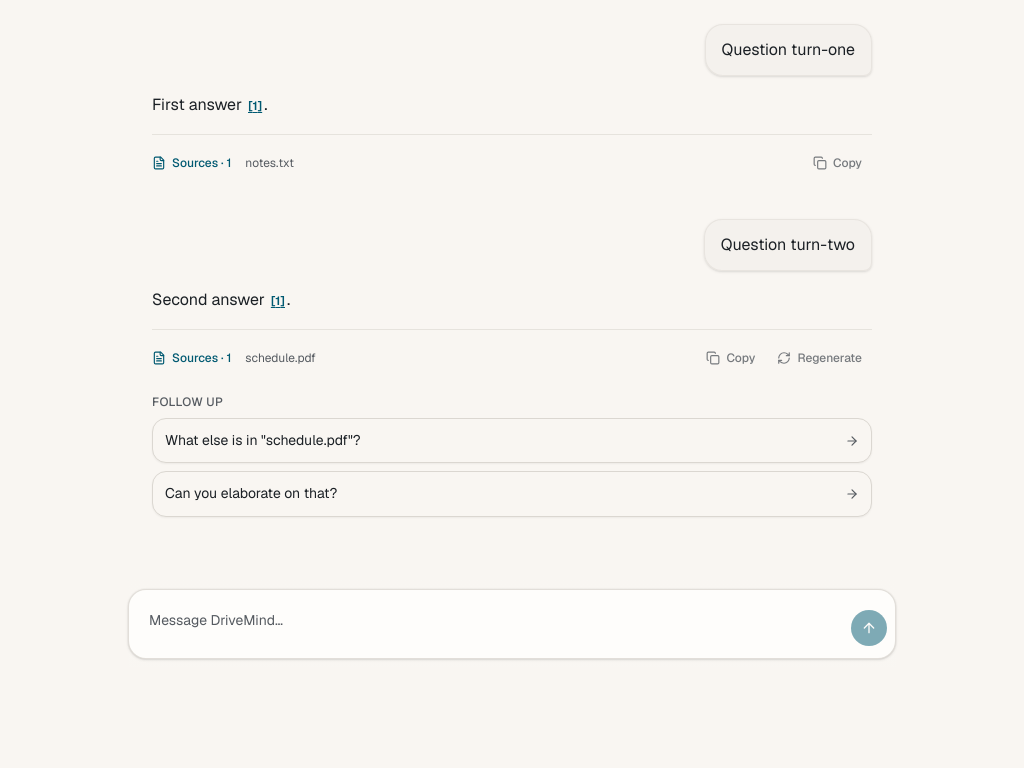
answer-wide evidence › closes without changing chat and does not carry one answer's evidence into another
Click the button "Sources · 1" below "First answer".
click(192, 163)  # box x1=152 y1=155 x2=231 y2=171
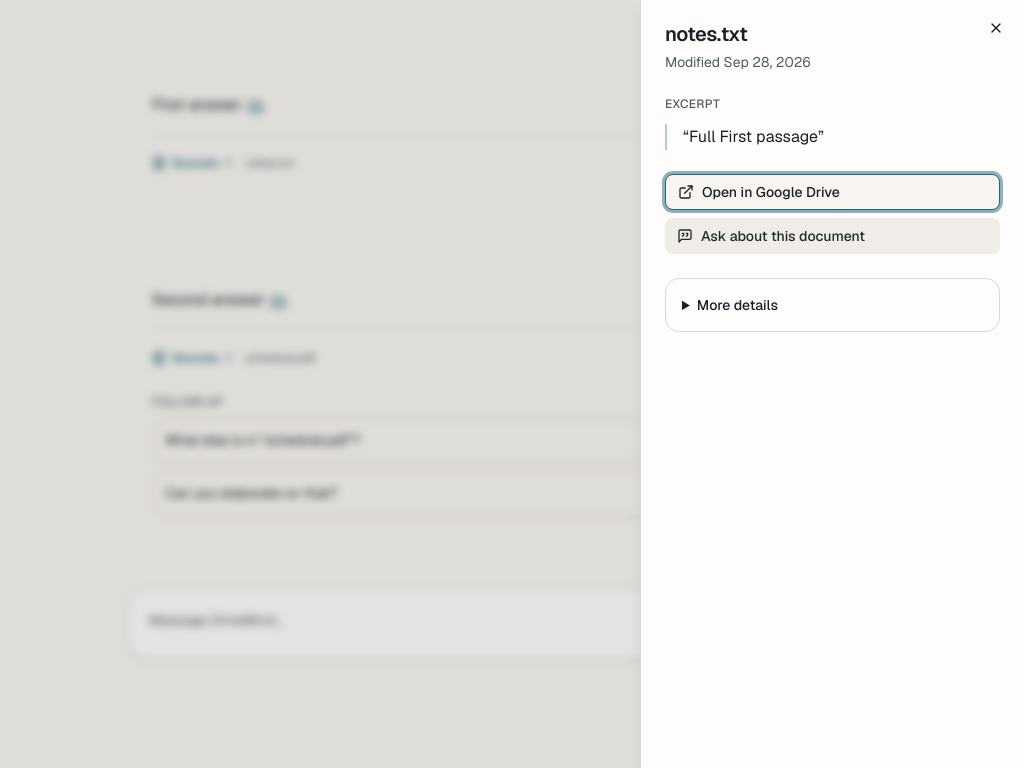
Check: the text "“Full First passage”" is shown, box x1=665 y1=124 x2=1000 y2=150
Press Escape
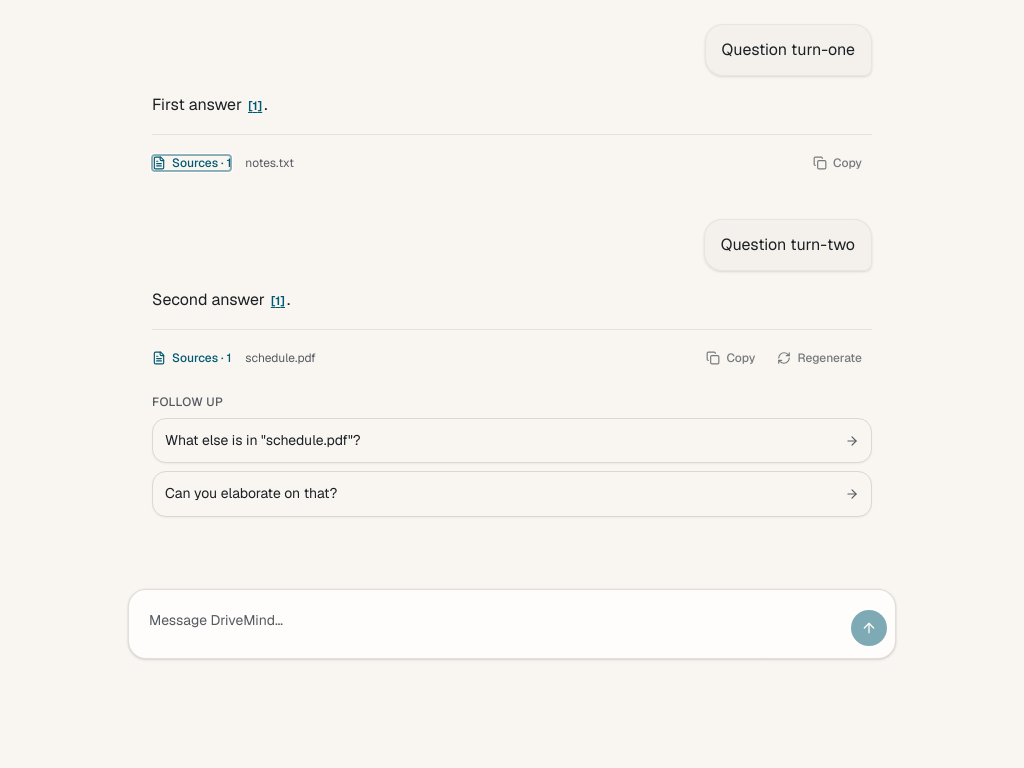
Check: the dialog is gone
Click the button "Sources · 1" below "Second answer".
click(192, 358)  # box x1=152 y1=350 x2=231 y2=366
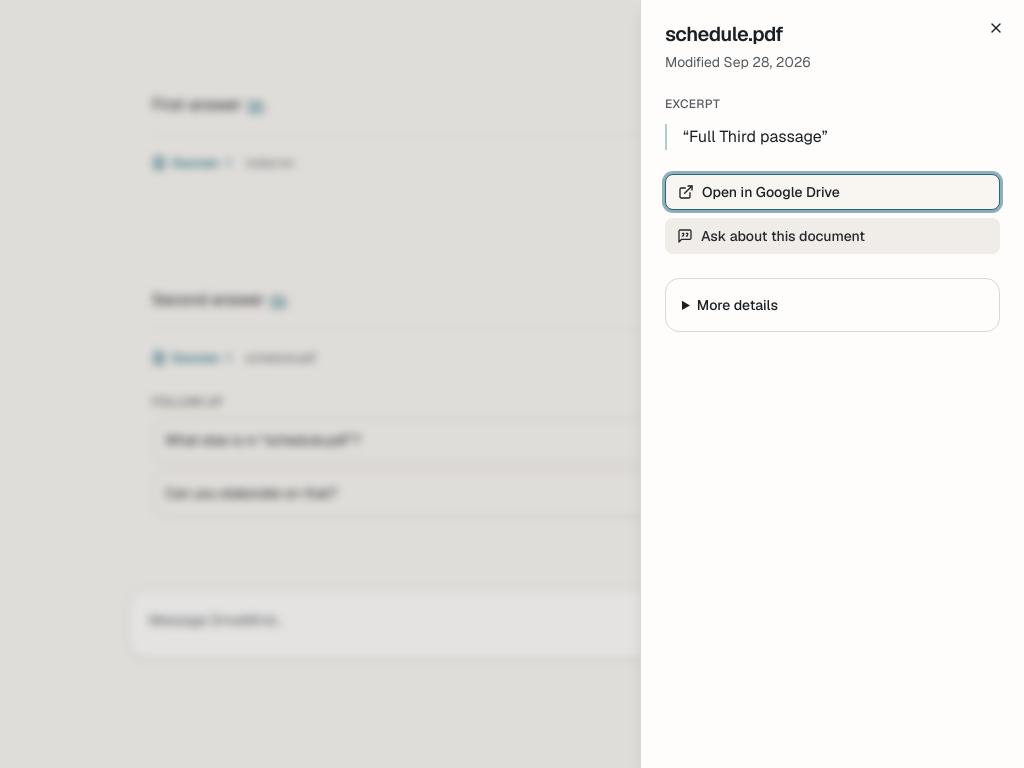
Check: the text "Full First passage" is not shown
Check: the text "“Full Third passage”" is shown, box x1=665 y1=124 x2=1000 y2=150
